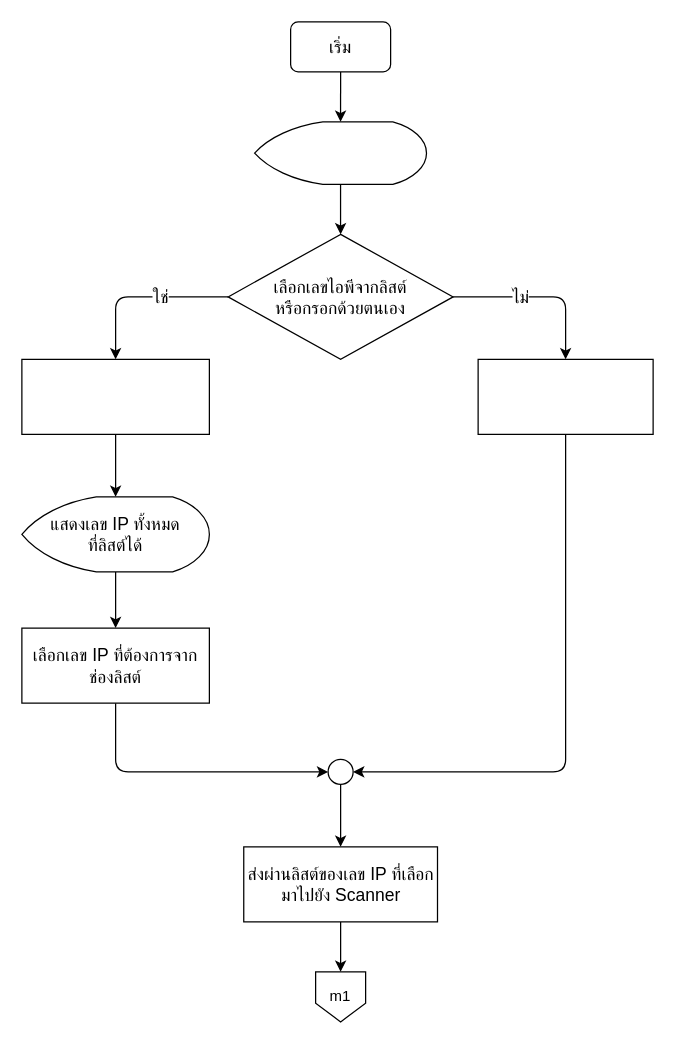
The diagram is 675 pixels wide and 1044 high, and some of its shapes have lost their labels. The shapes that lost their labels are listed below. From the top down, each one's centre as x and y in pixels, then its label:
point (339, 152): แสดงหน้าต่าง UI
point (115, 396): ลิสต์เลข IP ของคอมพิวเตอร์ทั้งหมด ในโครงข่าย
point (565, 396): กรอกเลข IP ที่ต้องการ เข้าไปเอง
